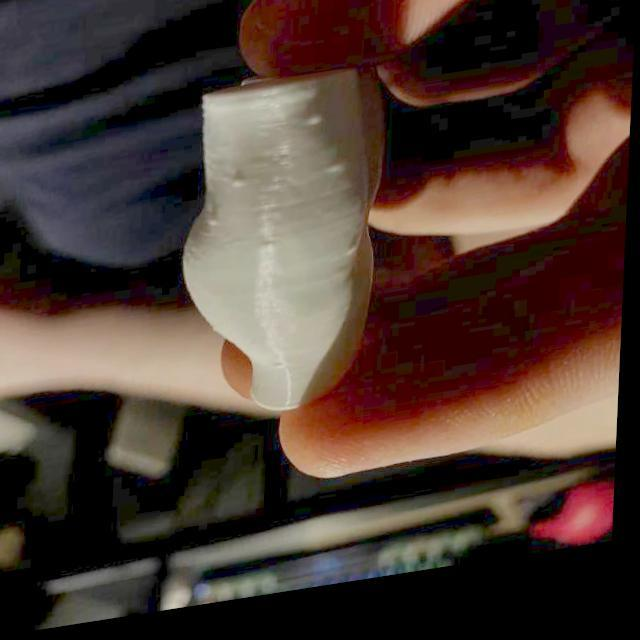zits: (300, 118, 326, 144), (326, 166, 348, 195), (230, 180, 254, 200), (204, 220, 226, 240), (262, 246, 280, 268), (341, 255, 362, 272)
